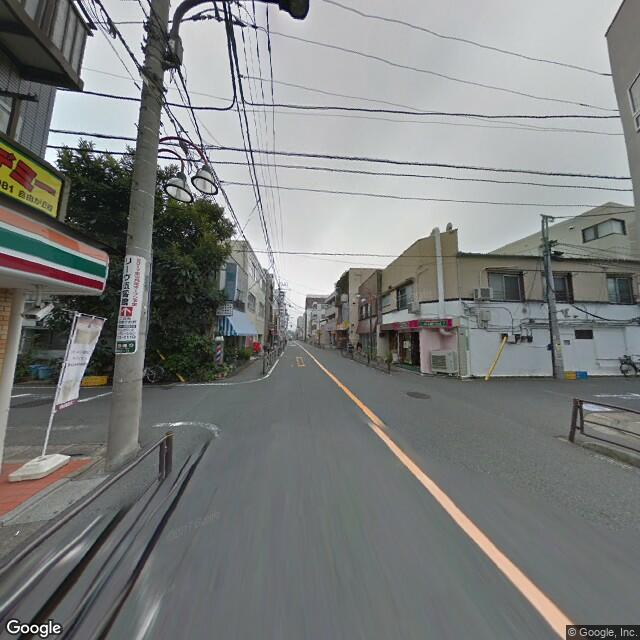7-eleven: (2, 205, 110, 298)
